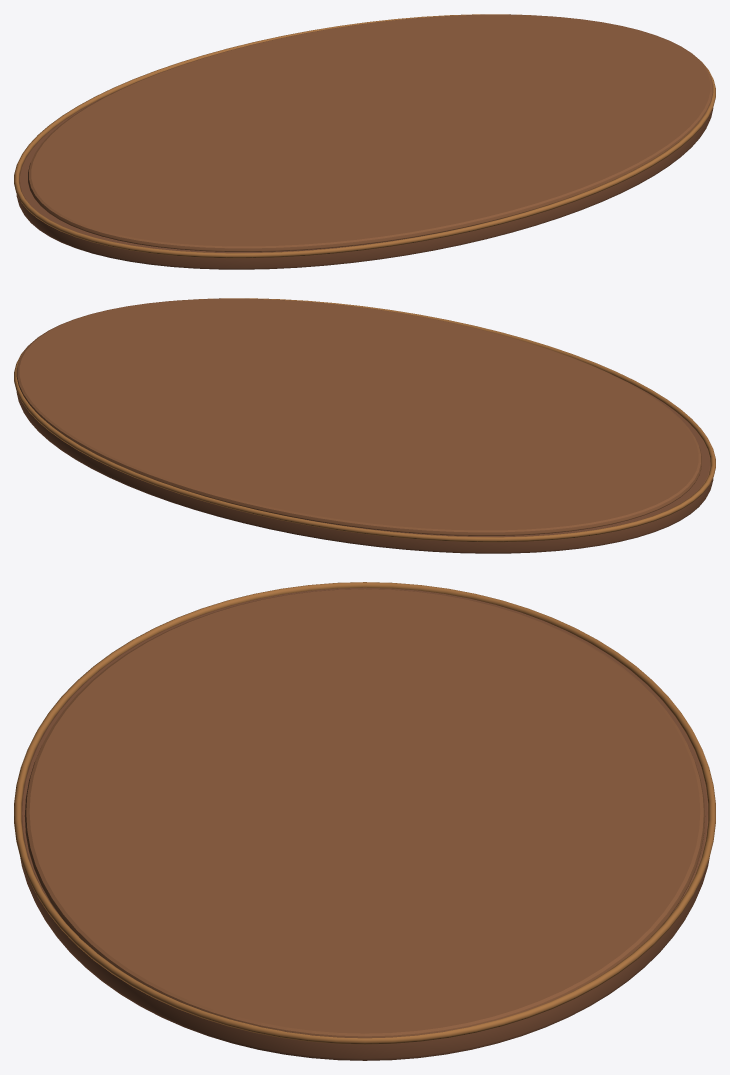
File: SM_Hub_WardrobeRiser.fbx
3 views of the same model, one above another, from view 1: azimuth 30°, elevation 25°; view 2: azimuth 150°, elevation 25°; view 3: azimuth 270°, elevation 25° (orthographic). The views are drawn at different scales.
Visible parts, largest first — view 1: Rounded wardrobe dais.001_Baked; view 2: Rounded wardrobe dais.001_Baked; view 3: Rounded wardrobe dais.001_Baked.
Part boxes in pixels (x1,y1,x2,y2): Rounded wardrobe dais.001_Baked: (14,14,715,269); Rounded wardrobe dais.001_Baked: (14,298,715,553); Rounded wardrobe dais.001_Baked: (14,582,715,1060).
Size of the model in its own units: 450 by 291 by 12.75.
